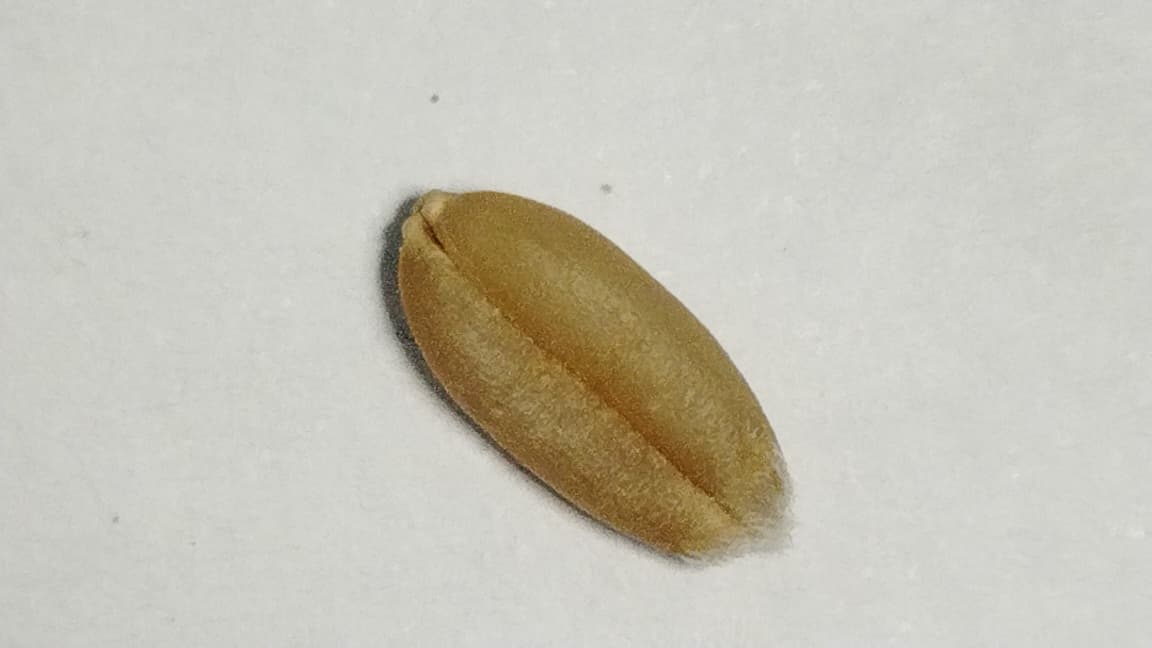healthy: (399, 191, 787, 560)
